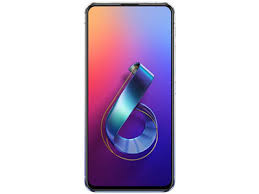asus: (83, 3, 178, 192)
